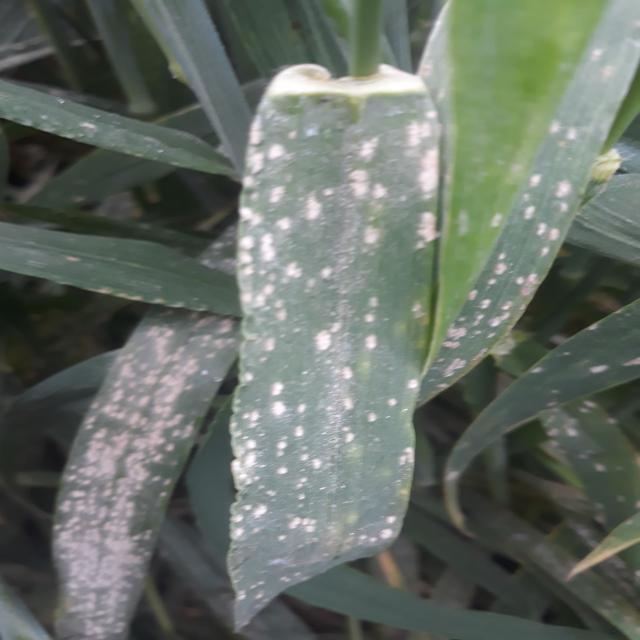powder_mildew: (218, 71, 462, 624), (462, 0, 635, 630), (35, 222, 250, 640), (0, 74, 215, 201)
